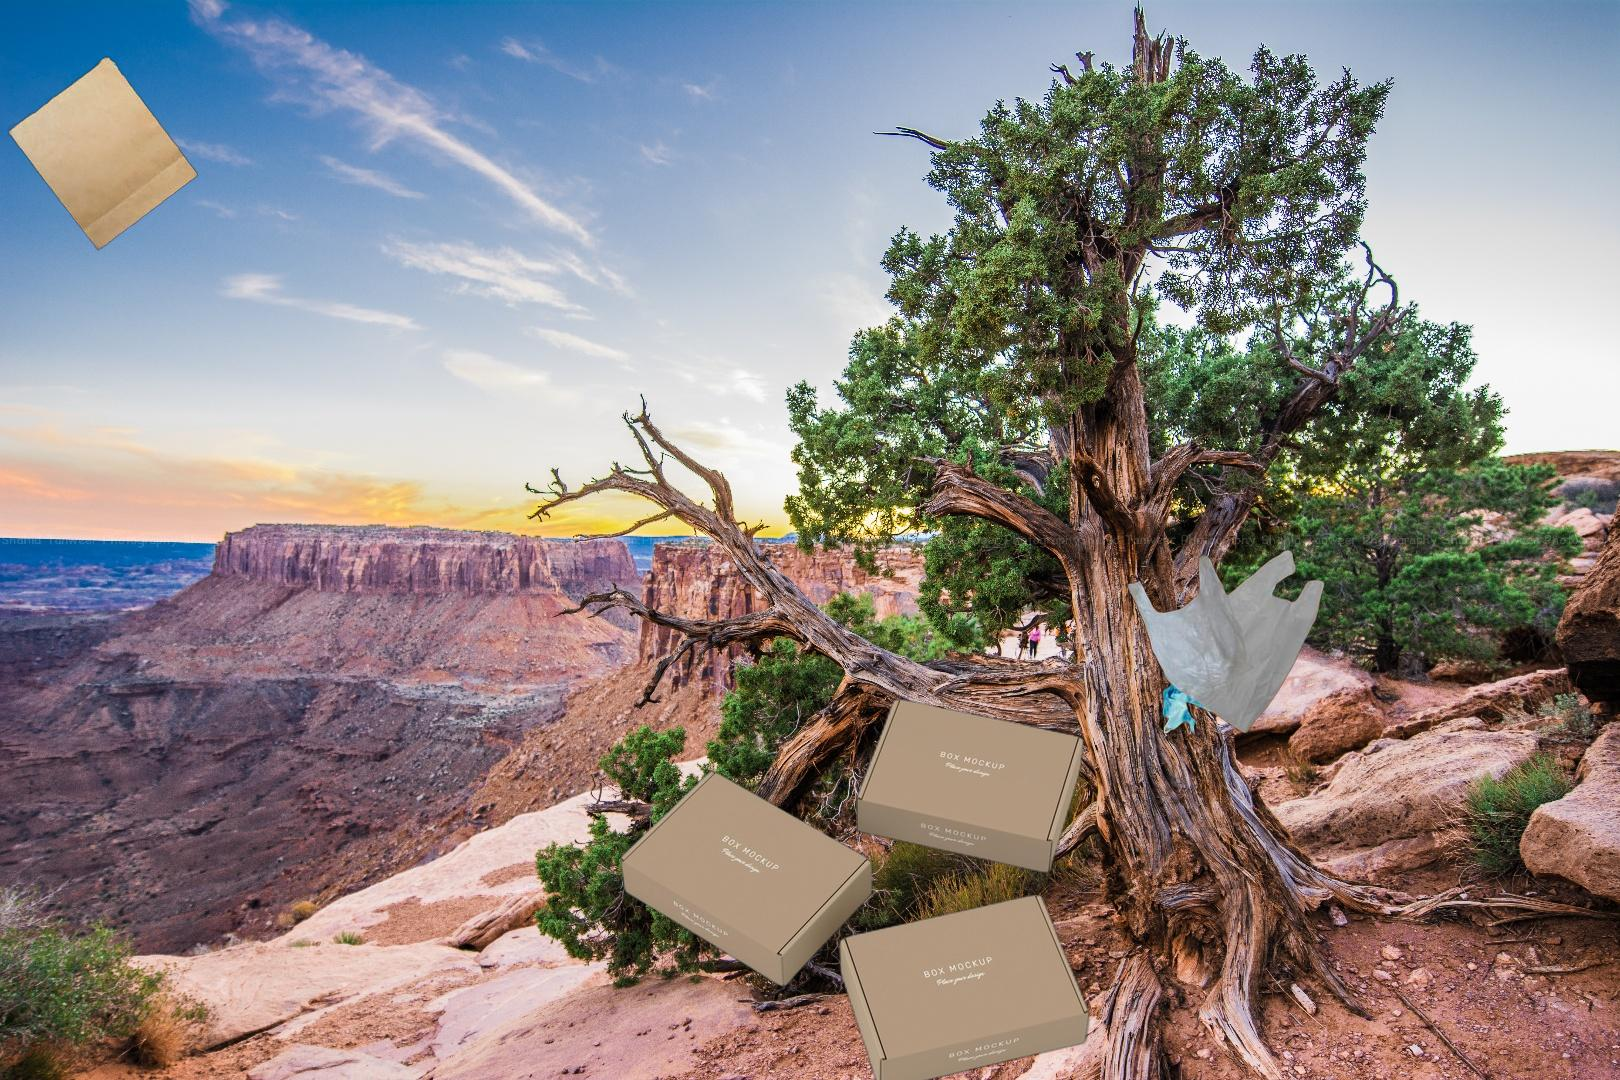paper-bag: (5, 54, 201, 252)
plastic-bag: (1125, 547, 1327, 738)
trashbox-cardboard: (615, 695, 1094, 1080)
